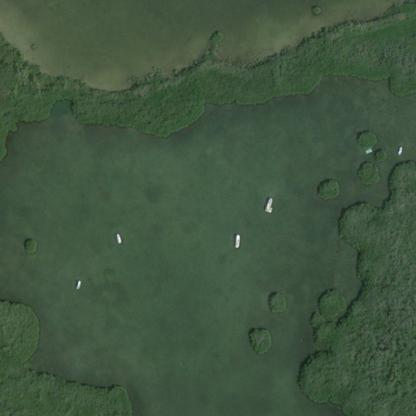ship: (259, 191, 279, 215), (228, 228, 245, 252), (72, 274, 86, 294), (110, 228, 125, 246), (394, 140, 405, 156)
